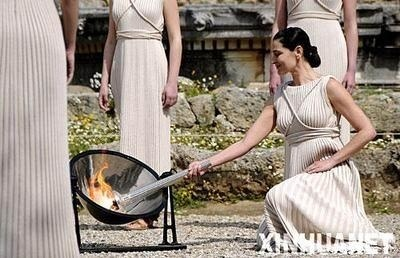fire: (85, 148, 117, 207)
